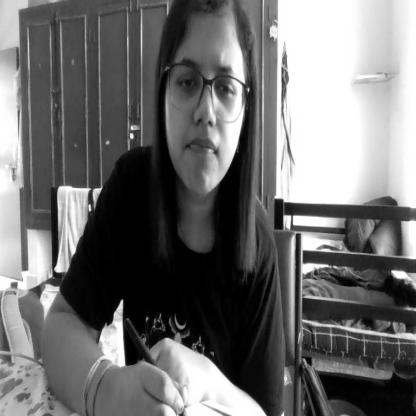Normal: (150, 1, 262, 220)
